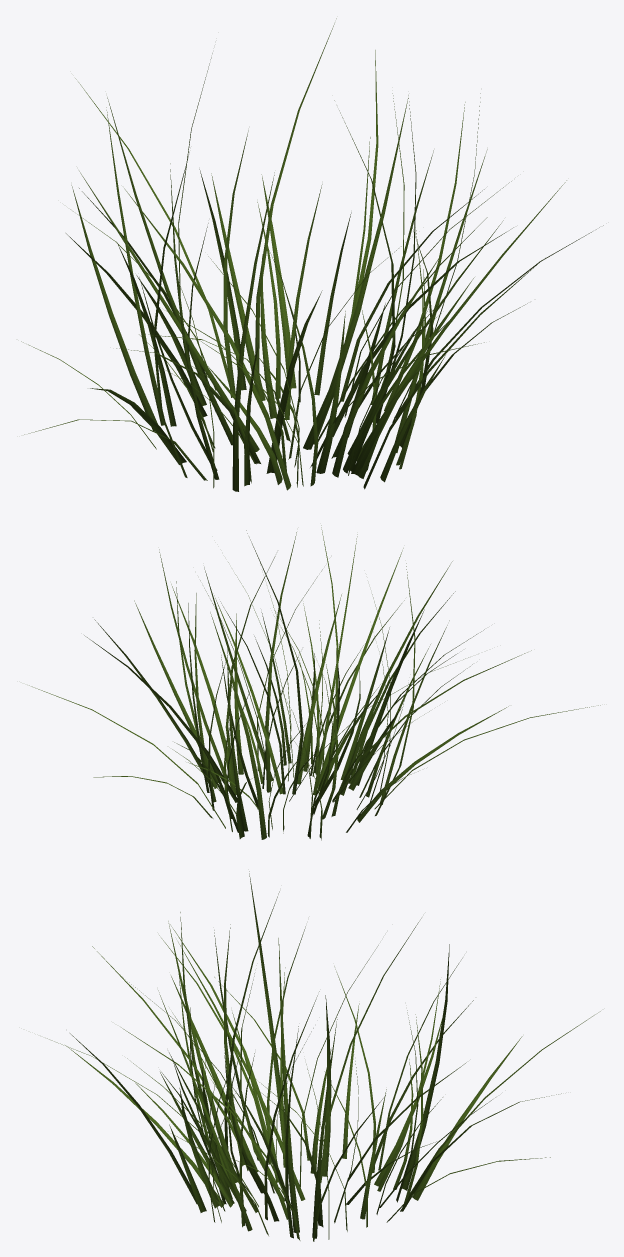
The model's file is grass_meadow_a_lod1.gltf.
3 views of the same model, one above another, from view 1: azimuth 30°, elevation 25°; view 2: azimuth 150°, elevation 25°; view 3: azimuth 270°, elevation 25° (orthographic). The views are drawn at different scales.
Visible parts, largest first — view 1: grass_meadow_a_lod1; view 2: grass_meadow_a_lod1; view 3: grass_meadow_a_lod1.
Boxes of the visible parts, x1=… form: grass_meadow_a_lod1: x1=21, y1=18, x2=603, y2=491; grass_meadow_a_lod1: x1=29, y1=525, x2=600, y2=840; grass_meadow_a_lod1: x1=47, y1=871, x2=600, y2=1241.
Bounding box in the file's own units: 1.48 × 0.7905 × 1.52.
Materials: 1 (1 with a texture image).
